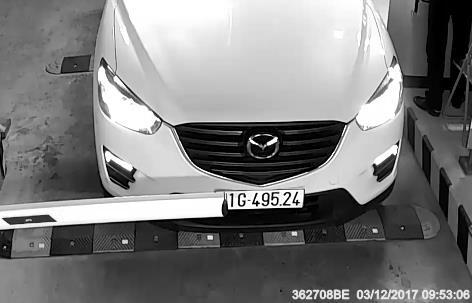License-plate: (210, 178, 319, 224)
